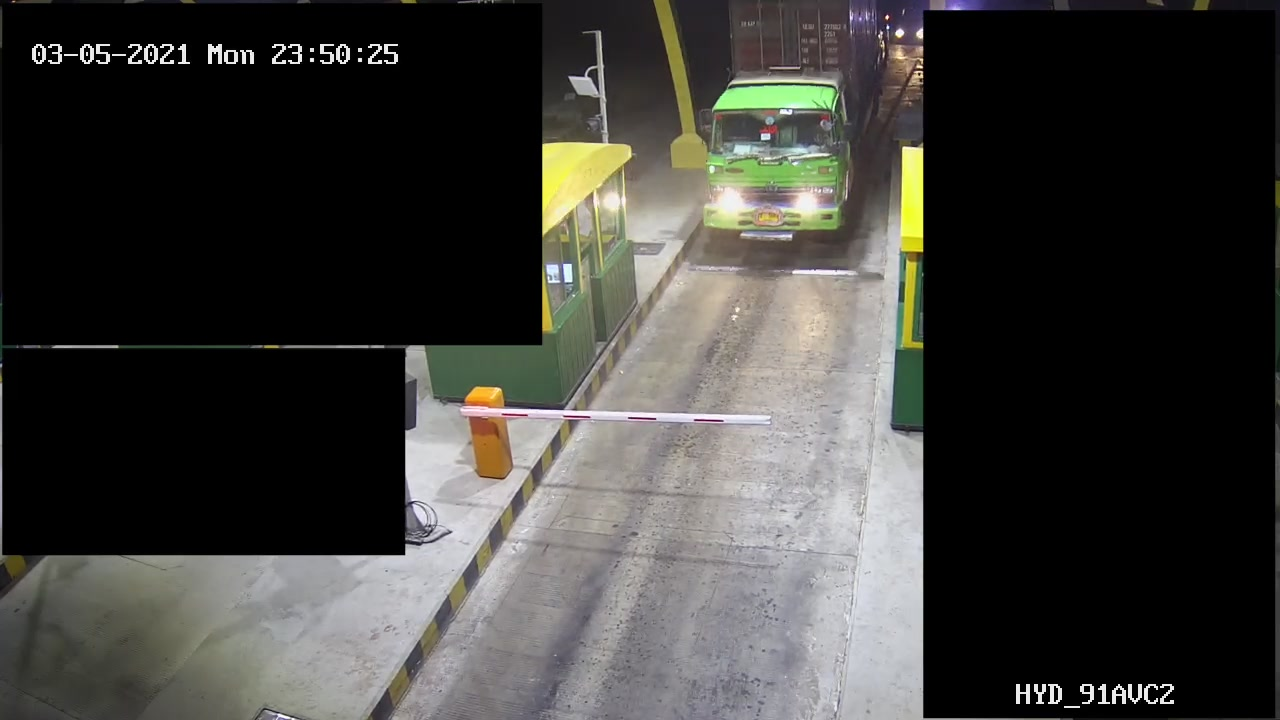F6: (698, 1, 879, 252)
